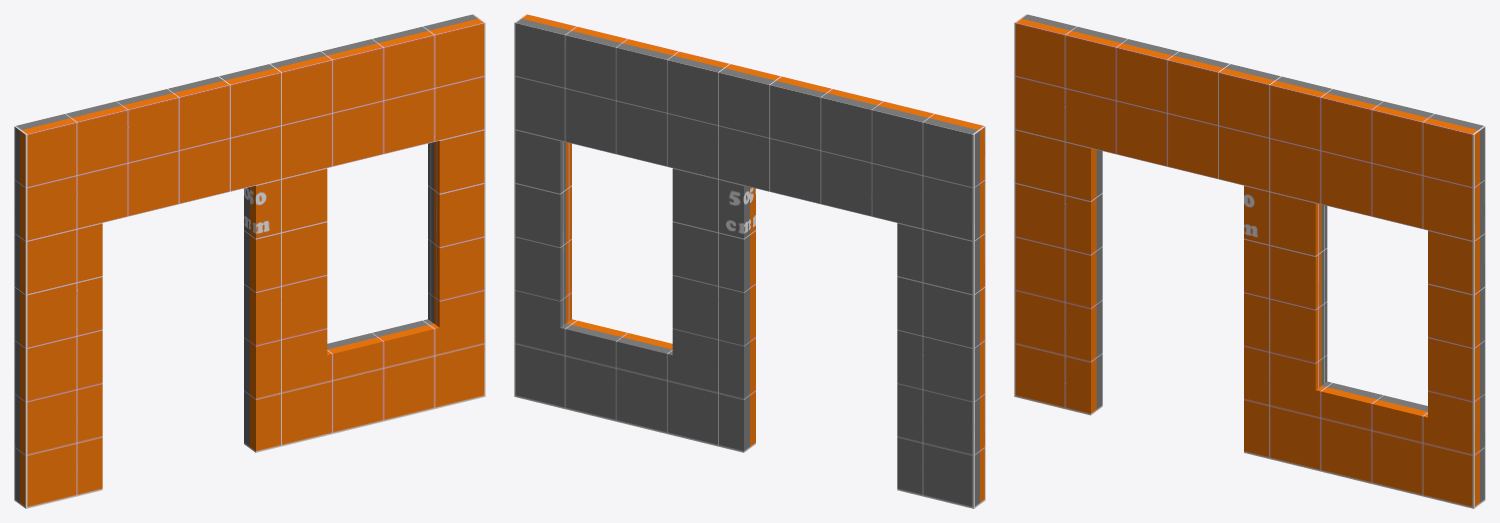
File: M01WallDoorTypeA_3.FBX
3 renders of one model, left to right at view 1: azimuth 30°, elevation 25°; view 2: azimuth 150°, elevation 25°; view 3: azimuth 330°, elevation 25°, orthographic.
Parts seen in each view (by area): view 1: M01WallDoorTypeA_3; view 2: M01WallDoorTypeA_3; view 3: M01WallDoorTypeA_3.
Part boxes in pixels (x1,y1,x2,y2): M01WallDoorTypeA_3: [14, 14, 485, 508]; M01WallDoorTypeA_3: [514, 14, 985, 508]; M01WallDoorTypeA_3: [1014, 14, 1485, 508].
Size of what is drawn, in the model's own units: 4.5 by 3.5 by 0.2.
